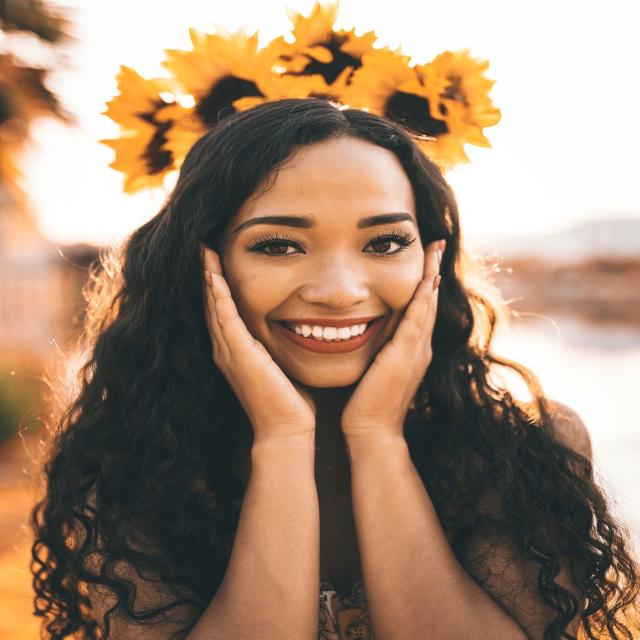adult: (25, 91, 585, 640)
